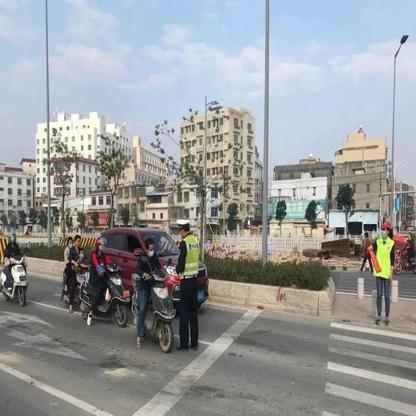target: (133, 238, 175, 353)
